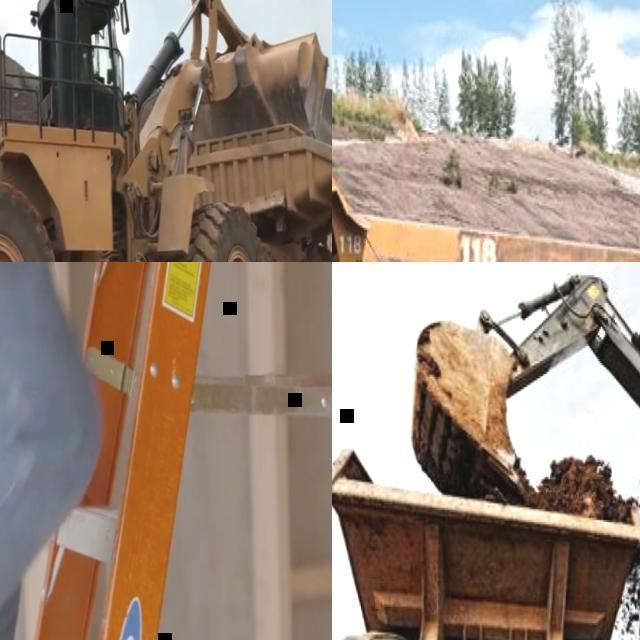Person: (0, 262, 108, 640)
machinery: (405, 262, 640, 640), (0, 0, 332, 262), (332, 440, 640, 640), (332, 128, 640, 262), (171, 108, 332, 262)
